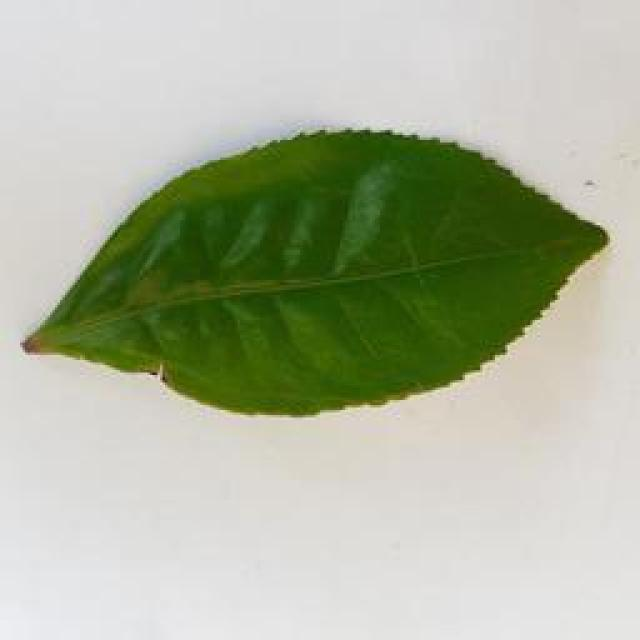Healthy: (25, 133, 605, 418)
